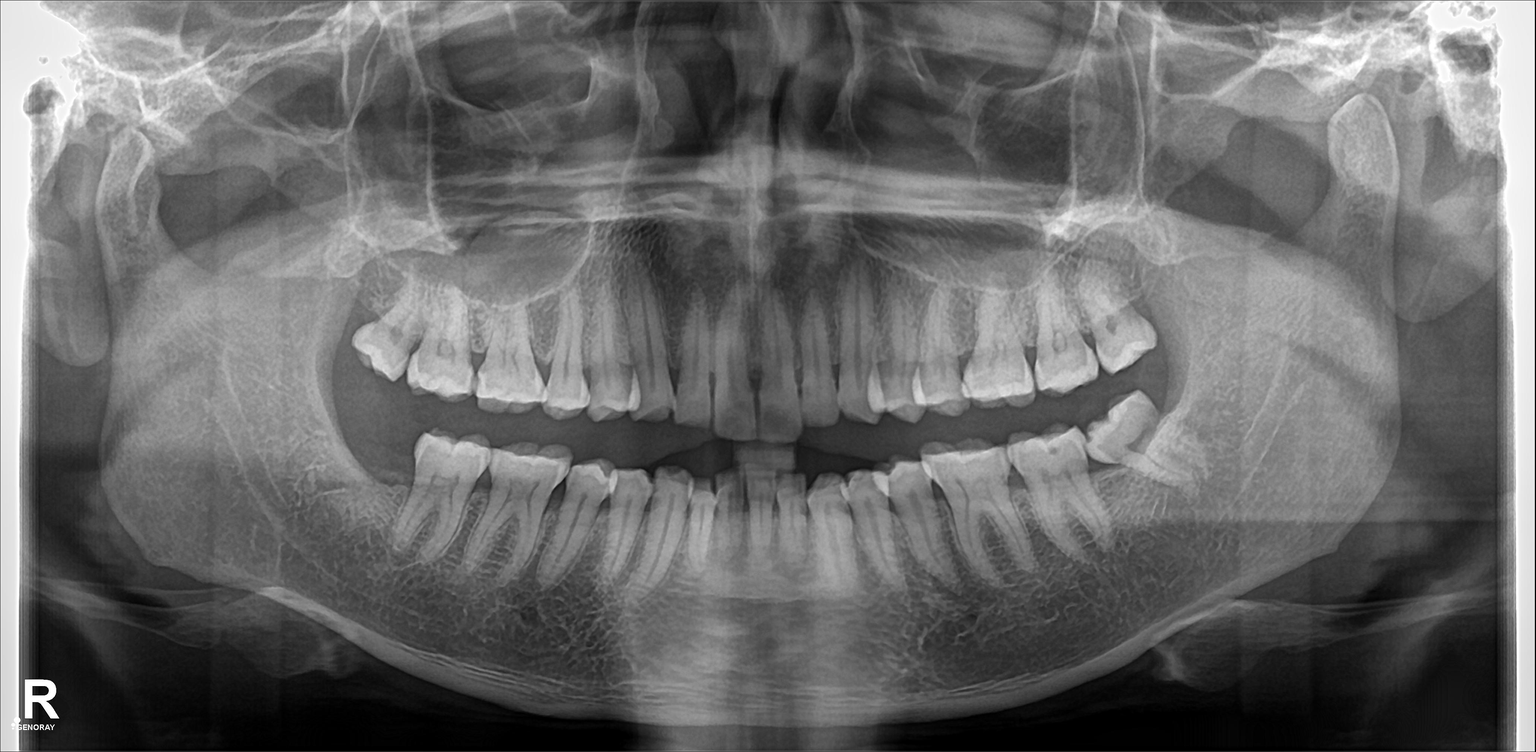Impacted Third Molar: (1102, 391, 1202, 495)
Missing Tooth: (331, 385, 374, 524), (378, 389, 419, 523), (1143, 244, 1187, 350)
